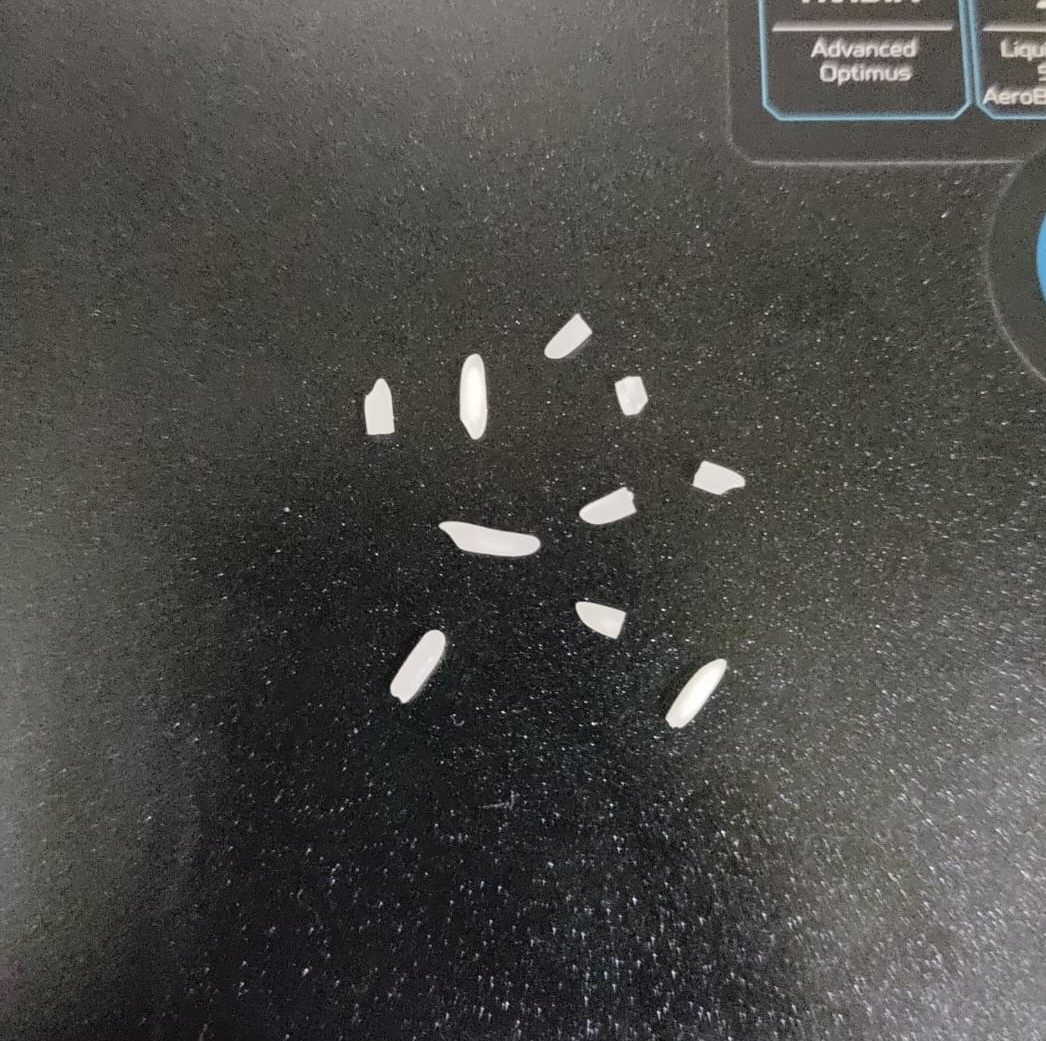broken_grain: (353, 370, 403, 446), (540, 305, 597, 366), (690, 450, 749, 508), (573, 483, 646, 528), (573, 597, 628, 646), (608, 370, 655, 424)
complete_grain: (381, 624, 453, 713), (437, 513, 545, 570), (662, 654, 732, 732), (450, 352, 499, 449)
